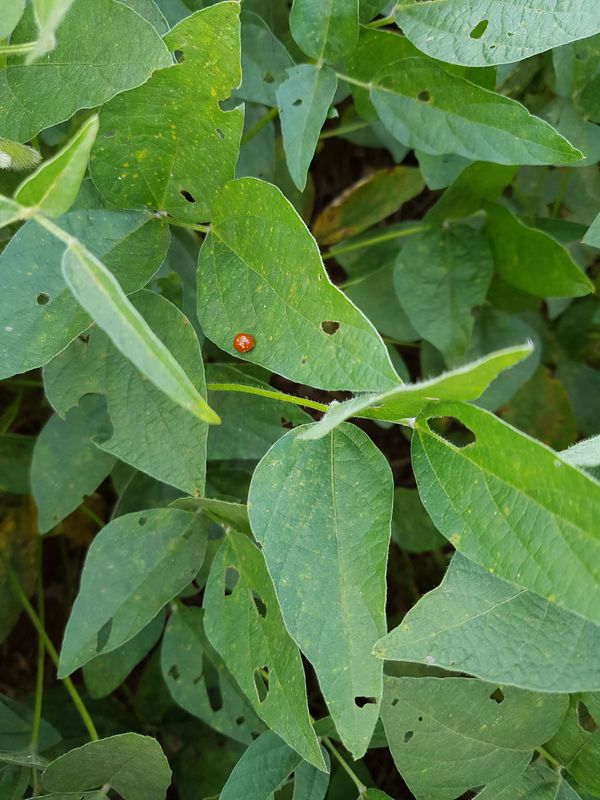Coccinellidae: (220, 324, 267, 366)
